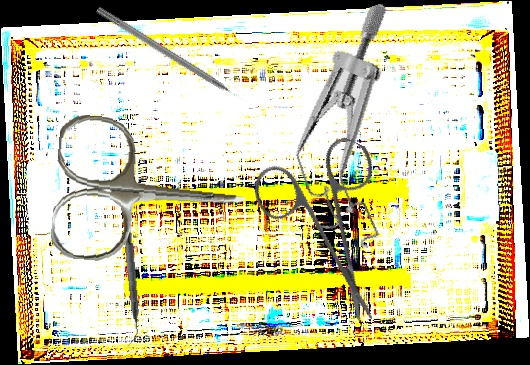Chopper: (109, 185, 145, 349)
Hook Surgical: (94, 5, 248, 107)
Iris Scissors: (220, 111, 437, 326), (49, 112, 251, 274)
Speculum: (252, 1, 458, 263)
